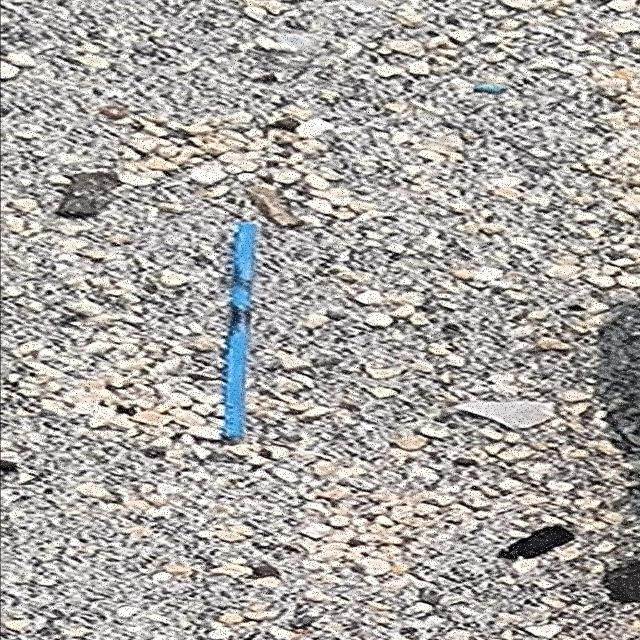plastic_waste: (223, 224, 260, 440)
